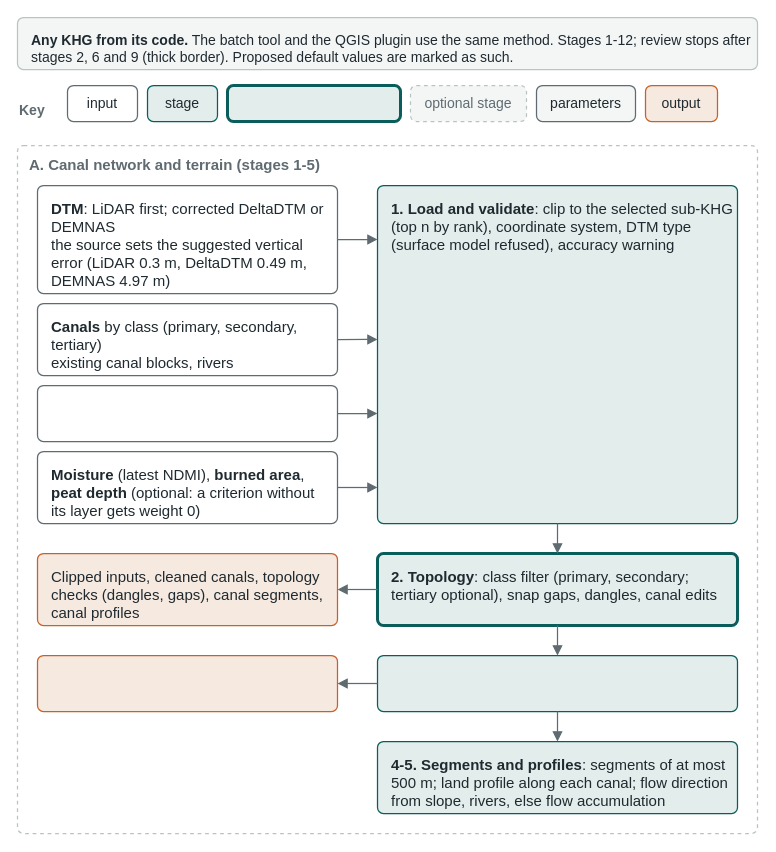
This 776x852 diagram has some shape labels left out. Here are the shapes that lost their labels. From the top down, the centre of each, then its label:
(314,103): stage with a review stop
(187,413): Sub-KHG units and ranking from the delineation and the sub-KHG prioritisation
(187,683): Conditioned DTM, flow accumulation
(557,683): 3. Hydrology : burn canals into the DTM, fill, flow accumulation
